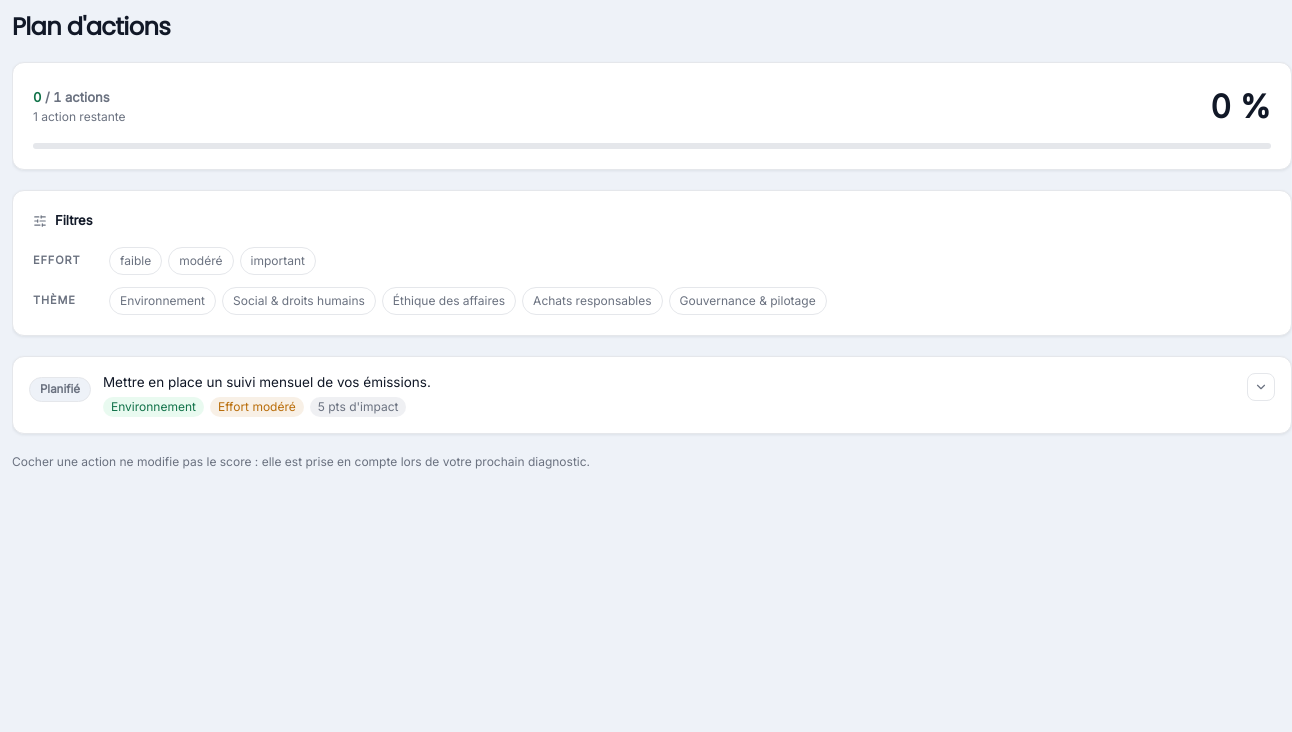
Test: PlanActionsPage › Viewer voit le statut sans pouvoir le changer, et le suivi en lecture
Click the button named "Voir les détails" at (1261, 386), box [1247,372,1275,400]
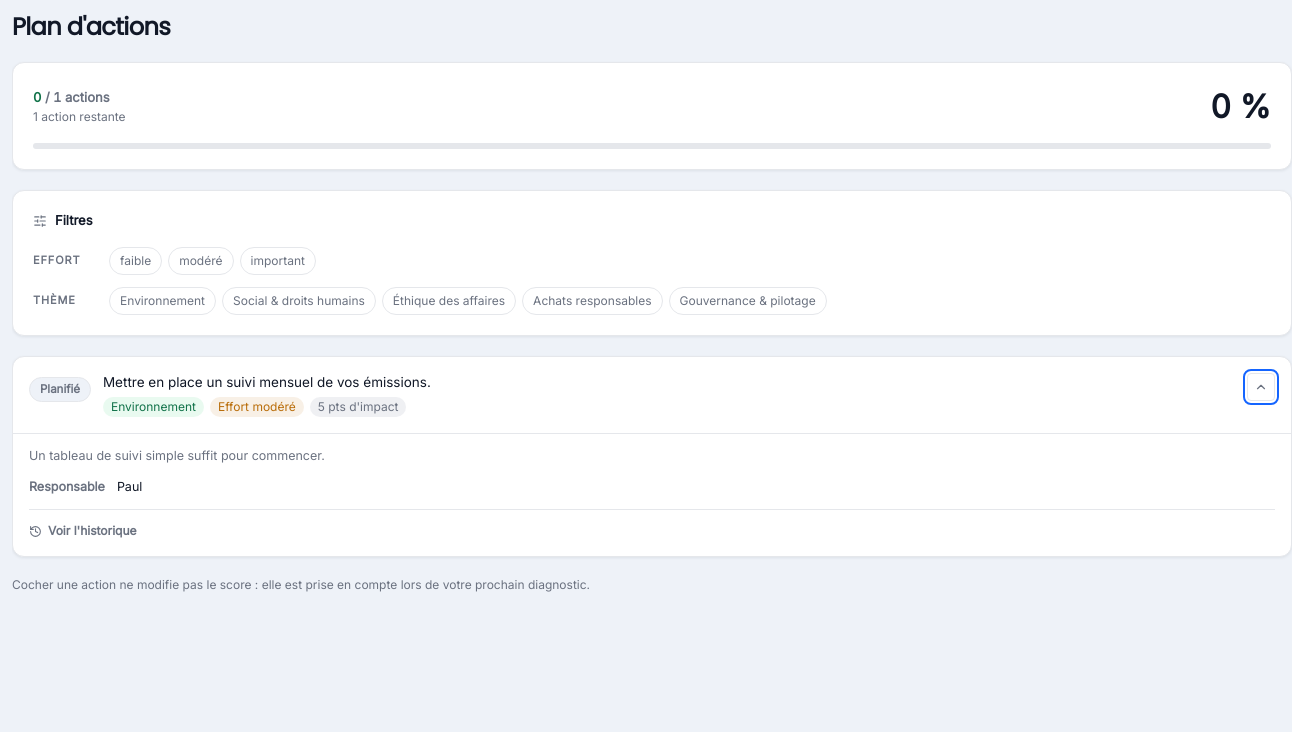
Expected: the text "Planifié" is shown, [29,376,91,402]
Expected: the text "Paul" is shown, [117,479,142,494]
